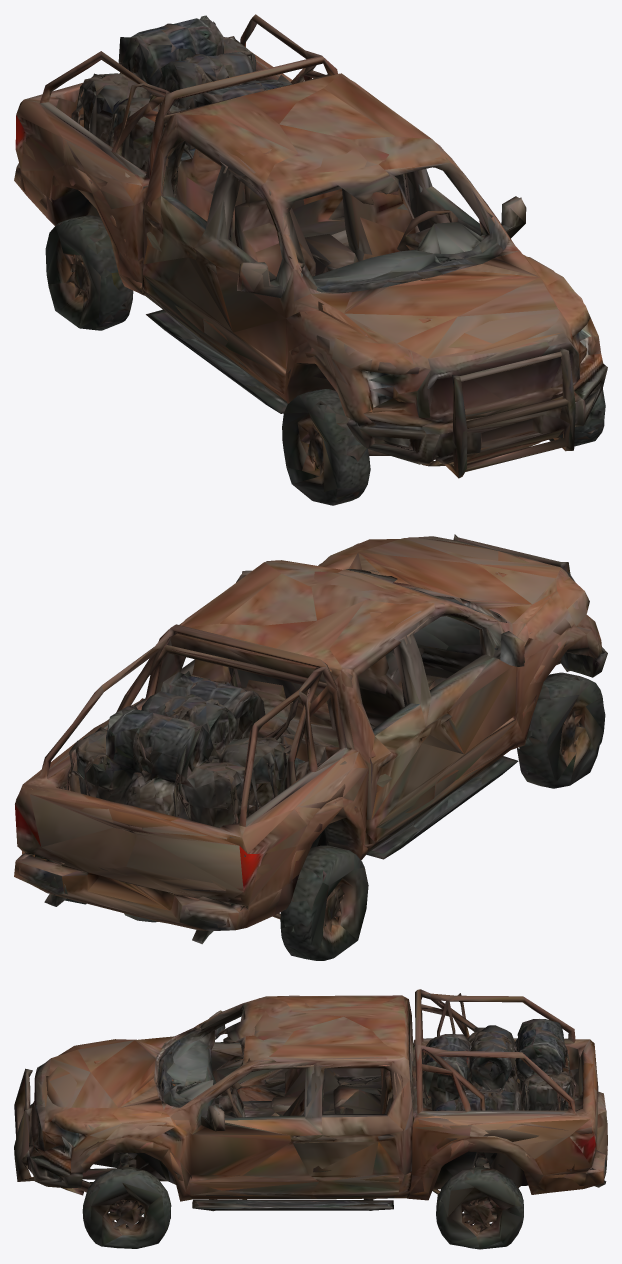
File: VEH_M_BrownRustPickup.glb
The picture shows the model from 3 angles, top to bottom: view 1: azimuth 30°, elevation 25°; view 2: azimuth 150°, elevation 25°; view 3: azimuth 270°, elevation 25°; orthographic projection. The views are drawn at different scales.
Visible parts, largest first — view 1: VEH_M_BrownRustPickup; view 2: VEH_M_BrownRustPickup; view 3: VEH_M_BrownRustPickup.
Part boxes in pixels (<box>): VEH_M_BrownRustPickup: <box>14,14,607,505</box>; VEH_M_BrownRustPickup: <box>14,534,607,960</box>; VEH_M_BrownRustPickup: <box>14,989,607,1249</box>.
Size of the model in its own units: 2.22 by 1.83 by 5.3.
Materials: 1 (1 with a texture image).
